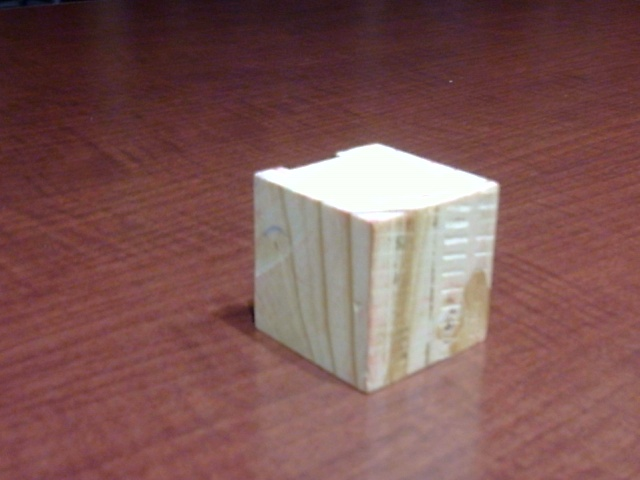NormalBlock: (254, 170, 501, 395)
